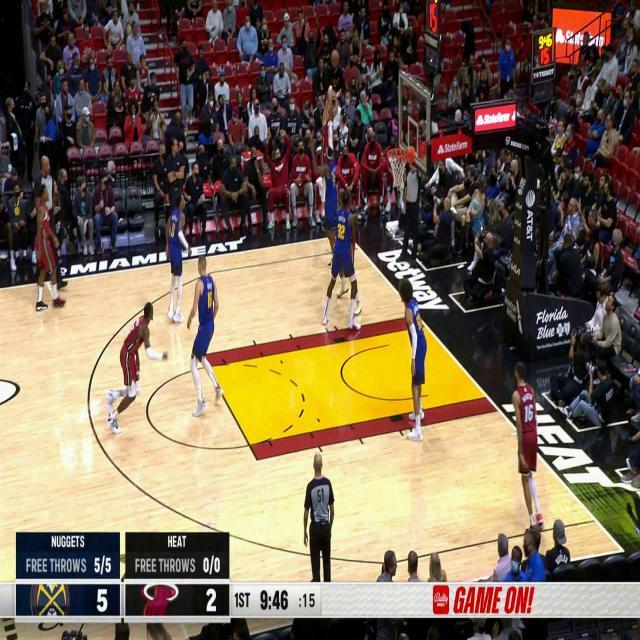rim: (331, 49, 340, 68)
